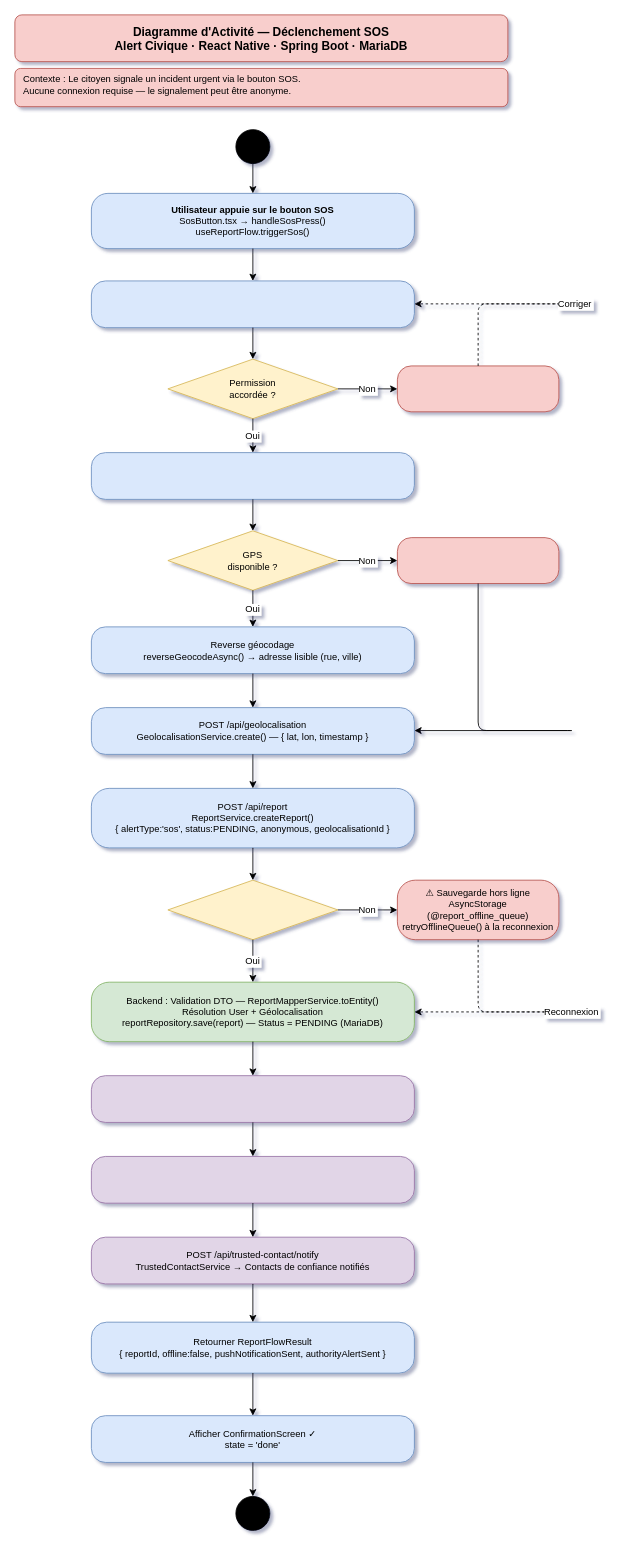
The diagram is 620 pixels wide and 1550 high, and some of its shapes have lost their labels. Here are the shapes that lost their labels. From the top down, the centre of each, then its label:
the point at 252,304: Demande permission localisation expo-location: requestForegroundPermissions()
the point at 478,388: Afficher message d'erreur permission refusée
the point at 252,475: Récupération position GPS getCurrentPositionAsync() — state = 'locating'
the point at 478,560: locationText = 'Position inconnue' lat / lon = undefined
the point at 252,909: Réseau disponible ?
the point at 252,1098: POST /api/push-notification PushNotificationService.send() → Utilisateur
the point at 252,1179: POST /api/emergencies-alert EmergenciesAlertService → autorites@alertcivique.fr
